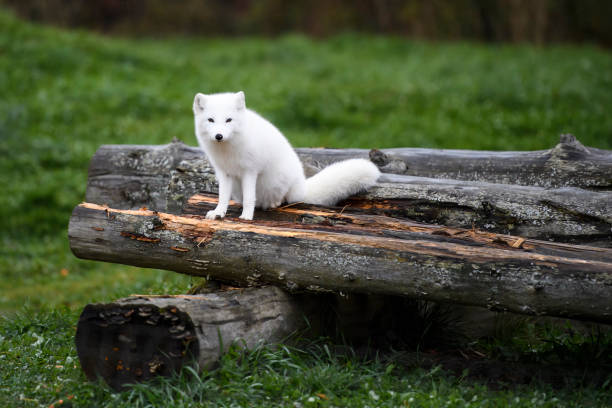arcticfox: (196, 105, 244, 153)
